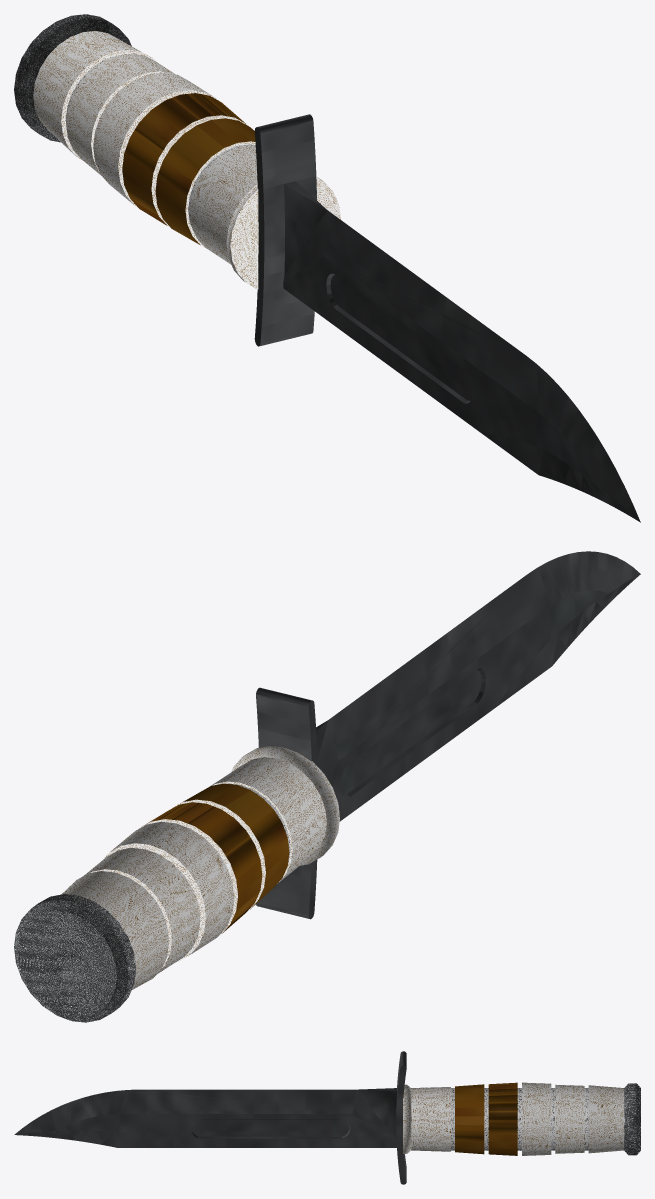
Rendered from model_scale.obj.
The picture shows the model from 3 angles, top to bottom: view 1: azimuth 30°, elevation 25°; view 2: azimuth 150°, elevation 25°; view 3: azimuth 270°, elevation 25°; orthographic projection. The views are drawn at different scales.
Parts seen in each view (by area): view 1: mesh1_mesh1-geometry, mesh6_mesh6-geometry; view 2: mesh6_mesh6-geometry, mesh1_mesh1-geometry; view 3: mesh1_mesh1-geometry, mesh6_mesh6-geometry.
Part boxes in pixels (x1=…): mesh1_mesh1-geometry: x1=254, y1=114, x2=640, y2=522; mesh6_mesh6-geometry: x1=14, y1=14, x2=340, y2=289; mesh6_mesh6-geometry: x1=14, y1=746, x2=339, y2=1022; mesh1_mesh1-geometry: x1=256, y1=551, x2=640, y2=919; mesh1_mesh1-geometry: x1=14, y1=1051, x2=406, y2=1184; mesh6_mesh6-geometry: x1=403, y1=1082, x2=640, y2=1155.
Size of the model in its own units: 0.0252 by 0.0451 by 0.2147.
Materials: 4 (2 with a texture image).
